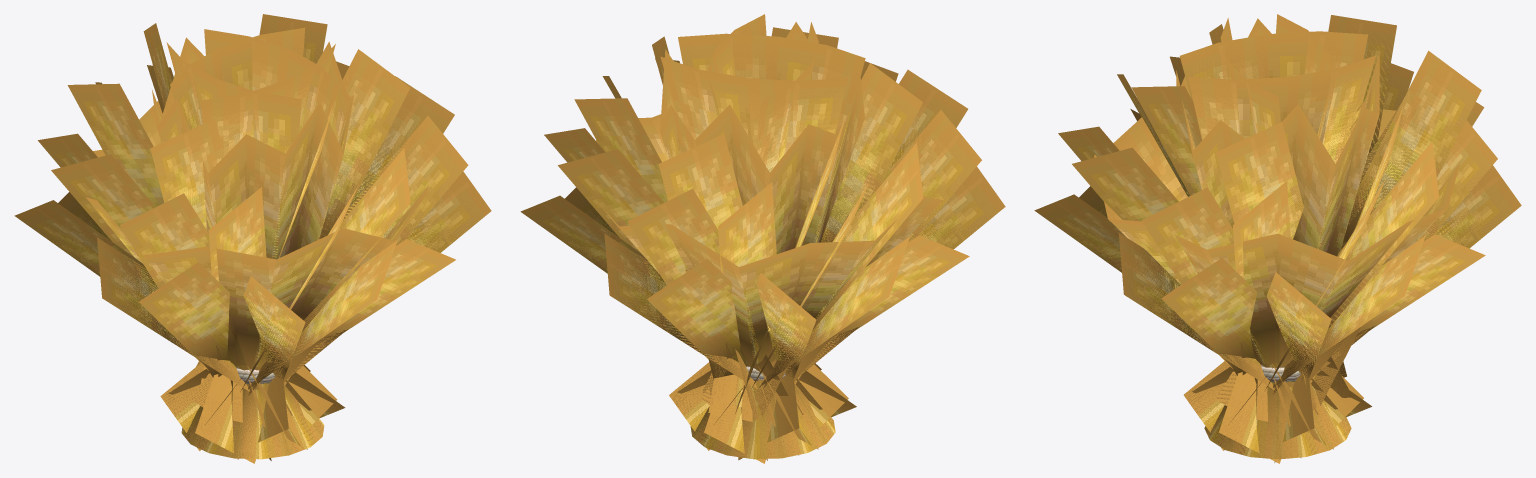
The model's file is int_oth_malt.dae.
The picture shows the model from 3 angles, left to right: view 1: azimuth 30°, elevation 25°; view 2: azimuth 150°, elevation 25°; view 3: azimuth 270°, elevation 25°; orthographic projection. The views are drawn at different scales.
Visible parts, largest first — view 1: int_oth_malt; view 2: int_oth_malt; view 3: int_oth_malt.
Part boxes in pixels (x1,y1,x2,y2): int_oth_malt: (14,14,491,463); int_oth_malt: (520,14,1005,463); int_oth_malt: (1034,14,1521,463).
Bounding box in the file's own units: 26.15 × 26.25 × 29.78.
3 materials, 3 textured.
